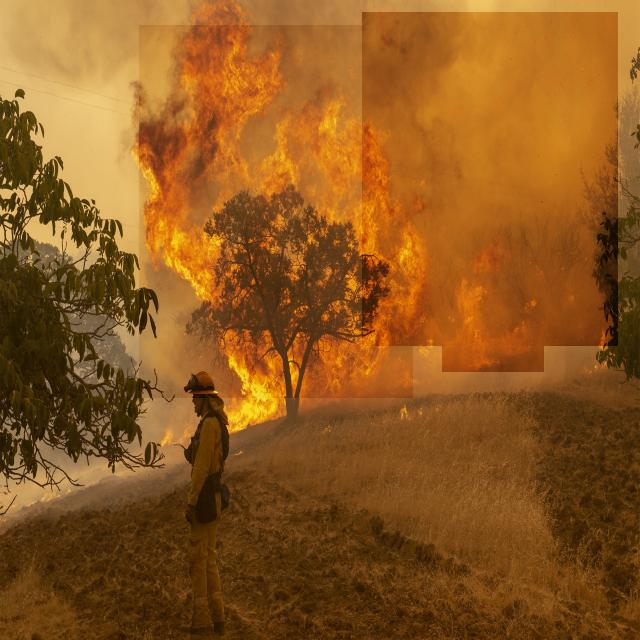Fire: (140, 25, 413, 398), (442, 262, 544, 372)
Smoke: (362, 12, 618, 346)
